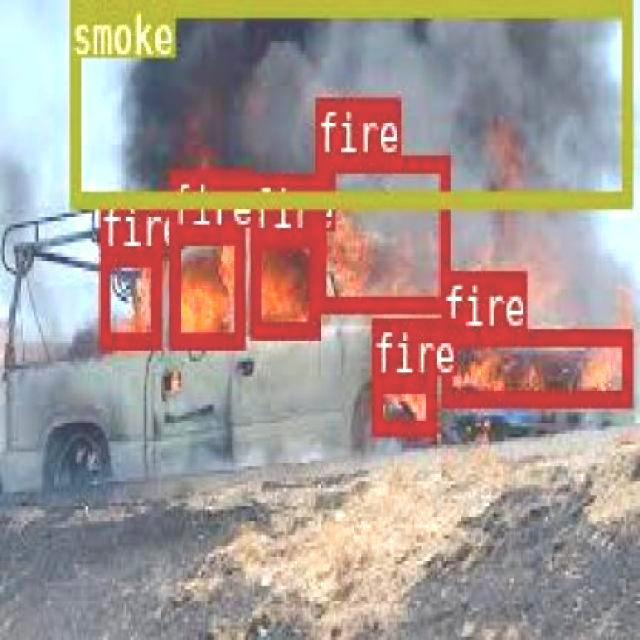fire: (314, 152, 448, 311), (440, 328, 629, 402), (167, 226, 242, 346), (248, 230, 318, 335), (98, 248, 160, 346), (371, 375, 434, 433)
smoke: (68, 1, 630, 202)
